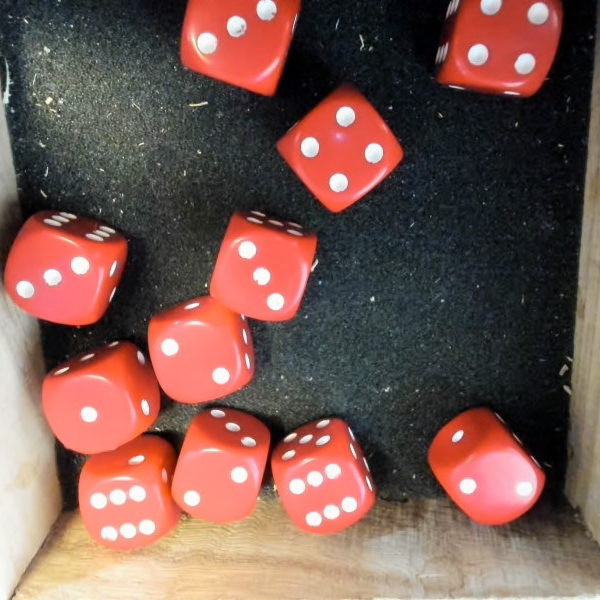red_die_pip1: (30, 332, 174, 466)
red_die_pip2: (413, 397, 561, 545), (166, 398, 279, 533), (139, 287, 259, 412)
red_die_pip3: (0, 199, 134, 335), (205, 206, 323, 332), (178, 0, 302, 95)
red_die_pip4: (272, 81, 411, 219), (435, 0, 565, 101)
red_die_pip6: (258, 408, 387, 545), (72, 433, 188, 555)
